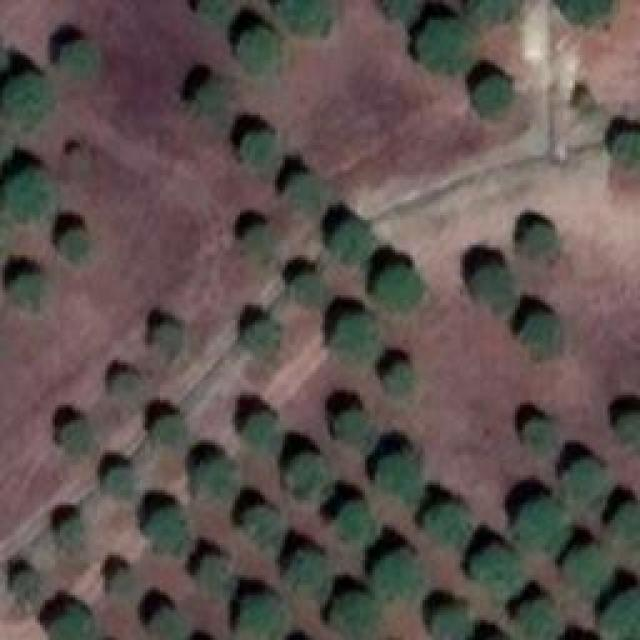Tree: (418, 20, 473, 78), (0, 72, 50, 130), (518, 500, 568, 555), (373, 263, 423, 316), (370, 547, 425, 595), (563, 550, 616, 598), (472, 545, 520, 598), (518, 315, 568, 365), (562, 458, 610, 508), (333, 318, 383, 363), (468, 265, 518, 310), (5, 170, 50, 220), (425, 500, 475, 545), (330, 590, 375, 638), (272, 0, 330, 35), (233, 28, 278, 73), (515, 218, 560, 263), (240, 595, 285, 640), (602, 587, 639, 640), (58, 40, 101, 85), (330, 498, 373, 543), (280, 453, 323, 496), (378, 453, 421, 496), (473, 75, 516, 115), (520, 597, 560, 640), (145, 508, 185, 551), (470, 0, 518, 35), (197, 555, 235, 598), (555, 0, 613, 28), (193, 80, 233, 120), (283, 173, 323, 213), (288, 553, 328, 593), (332, 223, 370, 263), (197, 460, 235, 500), (243, 130, 278, 173), (12, 267, 50, 305), (245, 505, 280, 545), (340, 408, 375, 448), (523, 417, 558, 455), (58, 225, 93, 263), (245, 317, 278, 355), (433, 605, 468, 640), (607, 130, 640, 165), (295, 273, 330, 306), (243, 415, 278, 448), (150, 605, 183, 640), (610, 505, 640, 543), (248, 225, 283, 255), (58, 610, 93, 640), (110, 373, 143, 403), (105, 465, 135, 498), (615, 410, 640, 448), (150, 325, 183, 353), (10, 570, 38, 603), (153, 415, 183, 445), (108, 570, 138, 600), (65, 420, 90, 453), (195, 0, 232, 22), (60, 517, 88, 545), (388, 360, 413, 390), (388, 0, 418, 20)
